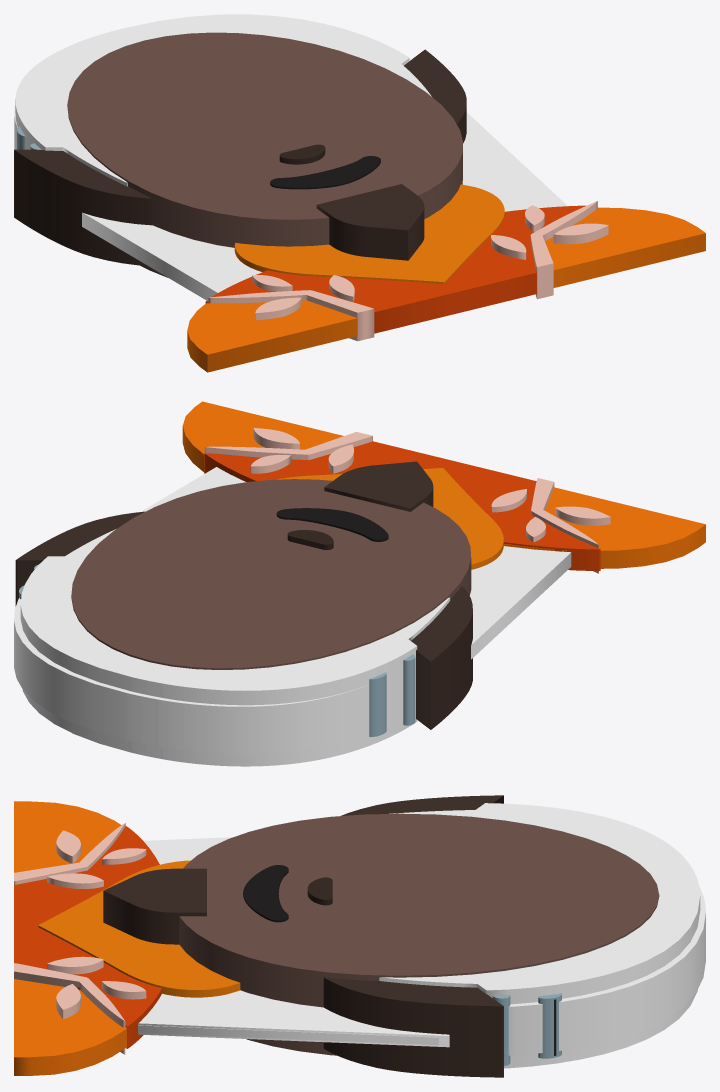
File: emoji_u1f9dd_1f3ff.glb
3 renders of one model, top to bottom at view 1: azimuth 30°, elevation 25°; view 2: azimuth 150°, elevation 25°; view 3: azimuth 270°, elevation 25°, orthographic. The views are drawn at different scales.
Visible parts, largest first — view 1: emoji_u1f9dd_1f3ff; view 2: emoji_u1f9dd_1f3ff; view 3: emoji_u1f9dd_1f3ff.
Boxes of the visible parts, bbox=[...] form: emoji_u1f9dd_1f3ff: bbox=[14, 14, 705, 372]; emoji_u1f9dd_1f3ff: bbox=[14, 401, 705, 766]; emoji_u1f9dd_1f3ff: bbox=[14, 795, 705, 1077].
Bounding box in the file's own units: 0.0292 × 0.005 × 0.0334.
